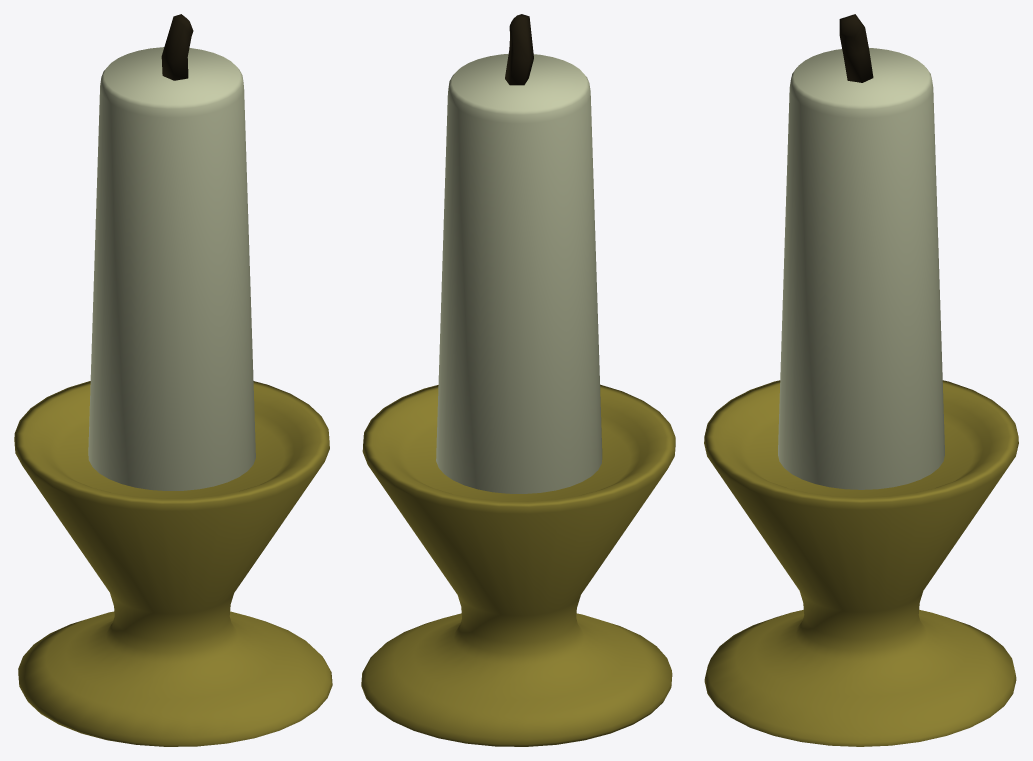
File: candle.glb
3 views of the same model, side by side, from view 1: azimuth 30°, elevation 25°; view 2: azimuth 150°, elevation 25°; view 3: azimuth 270°, elevation 25° (orthographic).
Visible parts, largest first — view 1: Cylinder.001, Cylinder, Cylinder.002; view 2: Cylinder.001, Cylinder, Cylinder.002; view 3: Cylinder.001, Cylinder, Cylinder.002.
Boxes of the visible parts, <box> form: Cylinder.001: <box>14,381,332,746</box>; Cylinder: <box>88,47,255,490</box>; Cylinder.002: <box>161,14,193,80</box>; Cylinder.001: <box>361,384,675,746</box>; Cylinder: <box>436,54,602,493</box>; Cylinder.002: <box>505,14,533,85</box>; Cylinder.001: <box>704,380,1018,746</box>; Cylinder: <box>778,48,944,489</box>; Cylinder.002: <box>839,14,873,82</box>.
Bounding box in the file's own units: 1.13 × 2.61 × 1.12.
